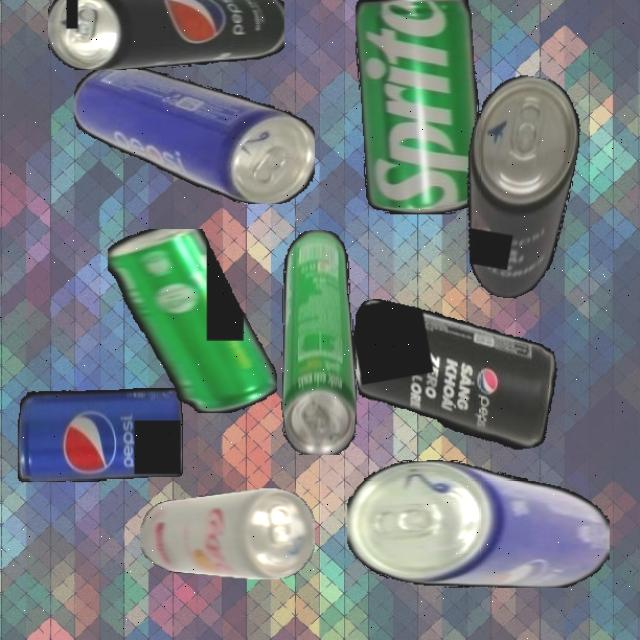debris: (344, 271, 569, 475), (445, 69, 590, 305), (347, 459, 610, 588), (73, 65, 315, 204), (107, 229, 277, 413), (354, 0, 481, 214), (280, 229, 357, 455), (48, 0, 285, 70), (139, 488, 315, 580), (17, 387, 183, 482)
